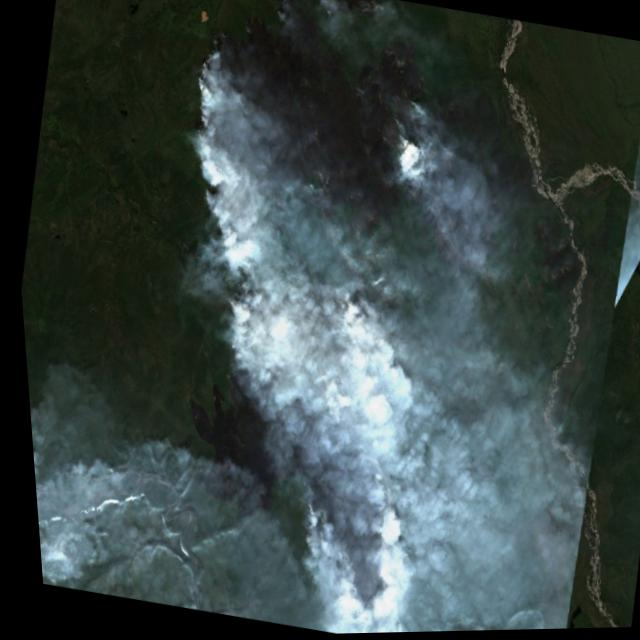fire: (157, 261, 451, 637), (158, 26, 304, 257), (362, 103, 426, 182)
